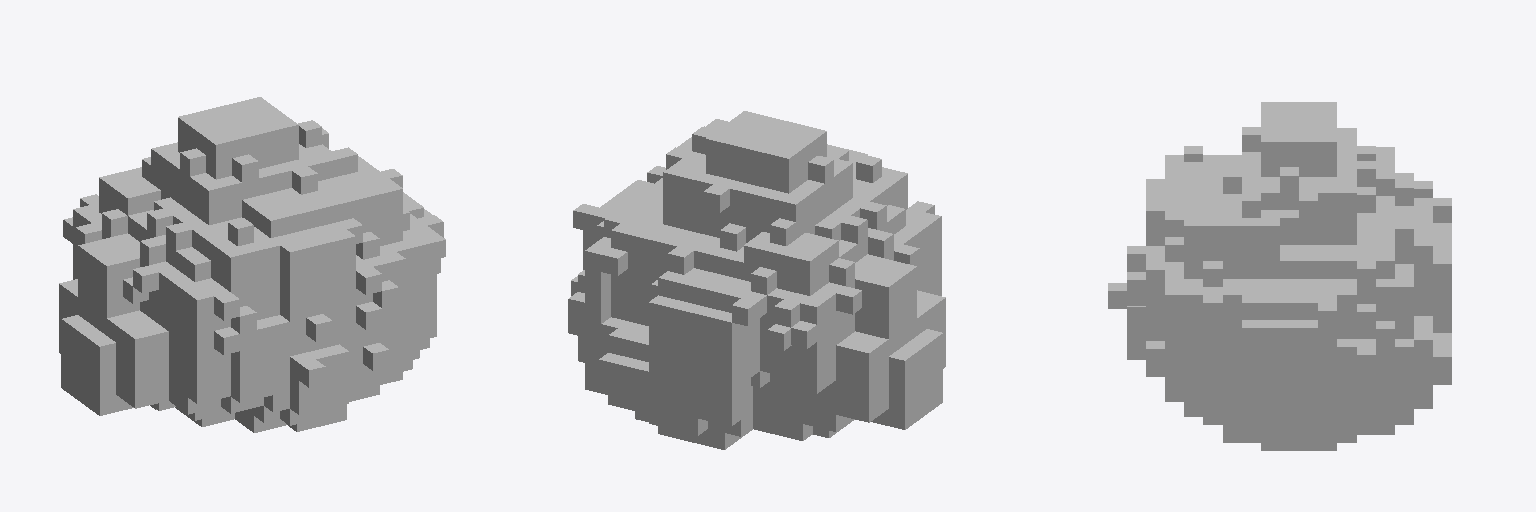
Rendered from Plant - Coffee.obj.
The picture shows the model from 3 angles: view 1: azimuth 30°, elevation 25°; view 2: azimuth 150°, elevation 25°; view 3: azimuth 270°, elevation 25°; orthographic projection.
Parts seen in each view (by area): view 1: object 1; view 2: object 1; view 3: object 1.
Part boxes in pixels (bbox=[...]): object 1: bbox=[59, 97, 445, 432]; object 1: bbox=[568, 111, 945, 449]; object 1: bbox=[1108, 102, 1451, 450].
Size of the model in its own units: 2 by 1.5 by 1.8.